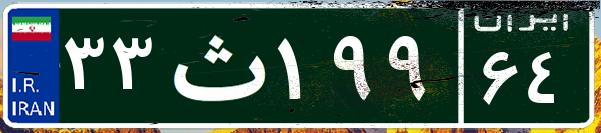1: (273, 28, 330, 110)
3: (57, 26, 110, 107), (110, 28, 158, 105)
4: (525, 38, 570, 115)
6: (475, 38, 525, 113)
9: (385, 28, 445, 110), (330, 28, 385, 110)
ث: (158, 15, 273, 115)
